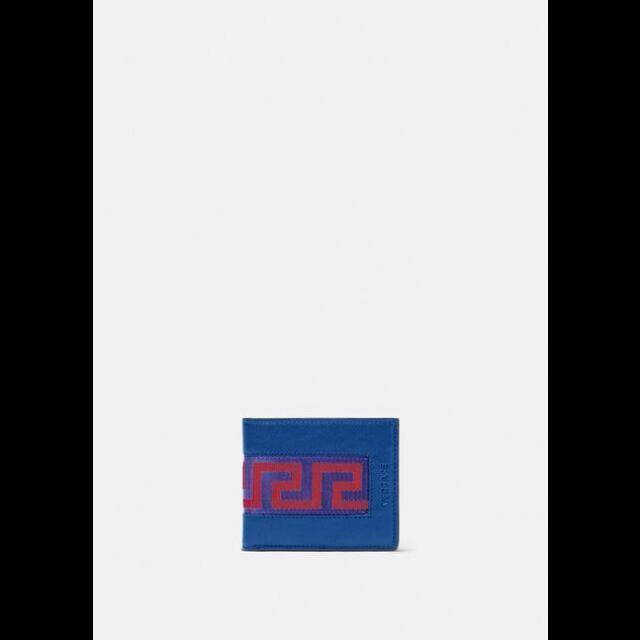wallet: (240, 415, 400, 549)
